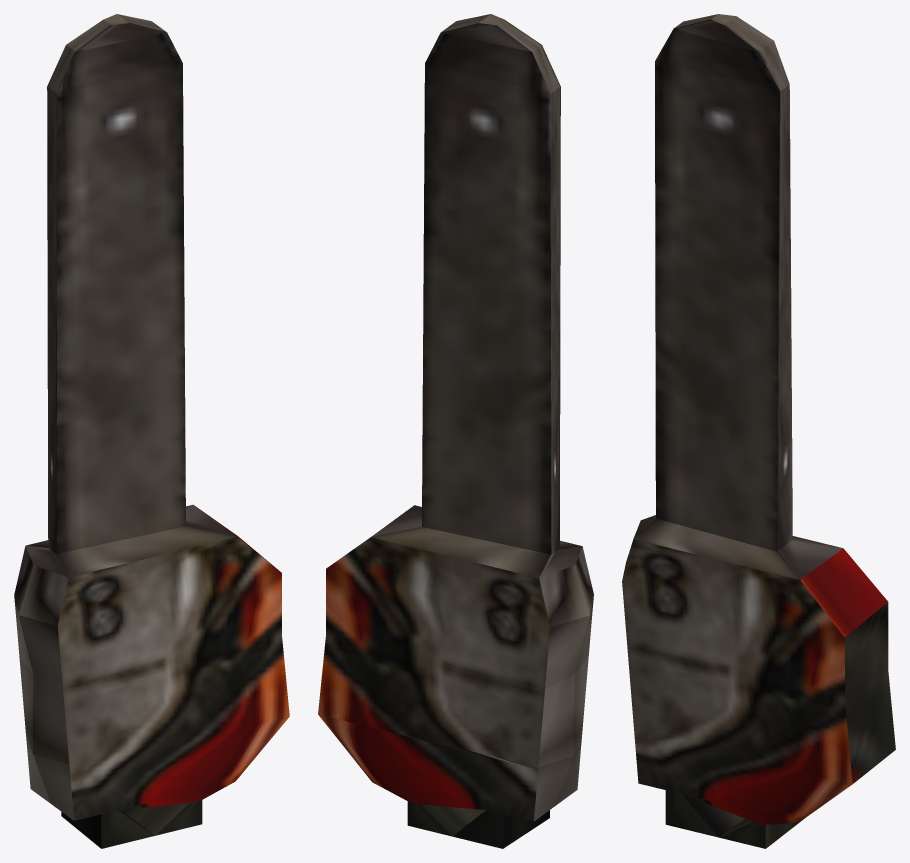
Rendered from Chainsaw.fbx.
The picture shows the model from 3 angles, left to right: view 1: azimuth 30°, elevation 25°; view 2: azimuth 150°, elevation 25°; view 3: azimuth 330°, elevation 25°; orthographic projection.
Parts seen in each view (by area): view 1: Cube; view 2: Cube; view 3: Cube.
Part boxes in pixels (x1,y1,x2,y2): Cube: [14, 14, 289, 848]; Cube: [318, 14, 593, 848]; Cube: [622, 14, 895, 848].
Bounding box in the file's own units: 80.7 × 248 × 24.4.
Materials: 1 (1 with a texture image).
